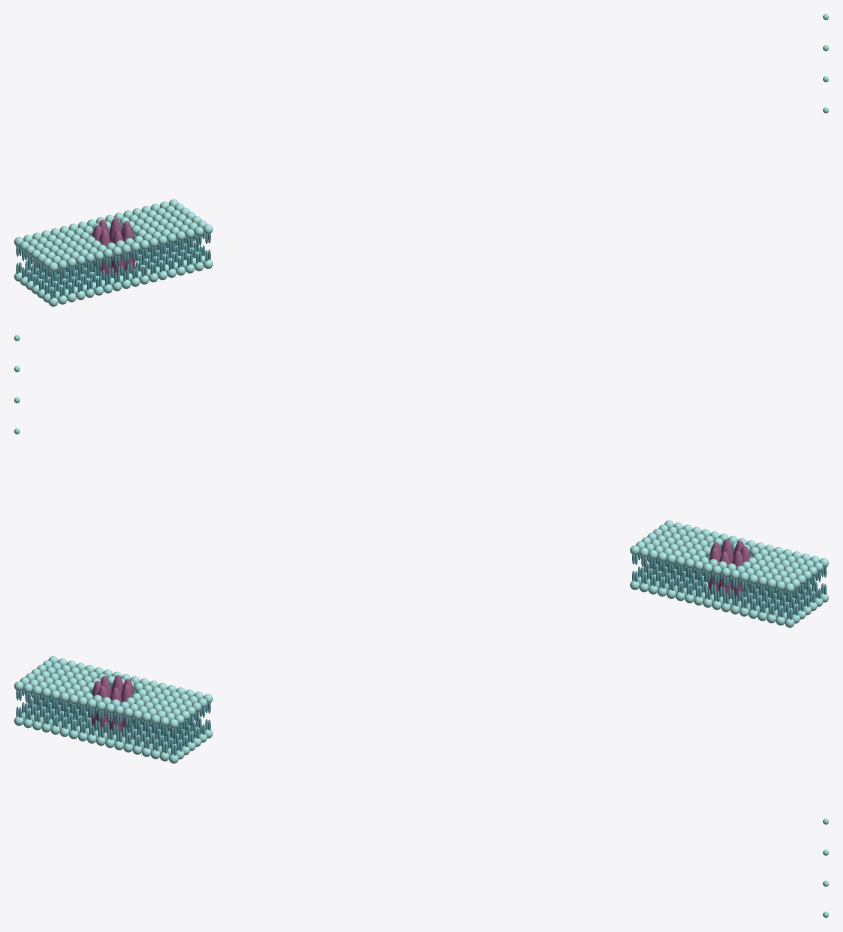
Rendered from membrane.glb.
3 views of the same model, one above another, from view 1: azimuth 30°, elevation 25°; view 2: azimuth 150°, elevation 25°; view 3: azimuth 330°, elevation 25° (orthographic).
Bounding box in the file's own units: 20.13 × 2.38 × 1.72.
